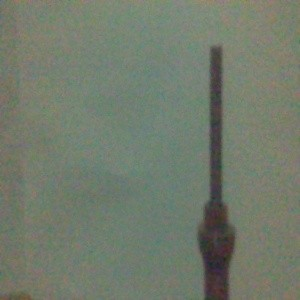obeng: (196, 44, 236, 300)
